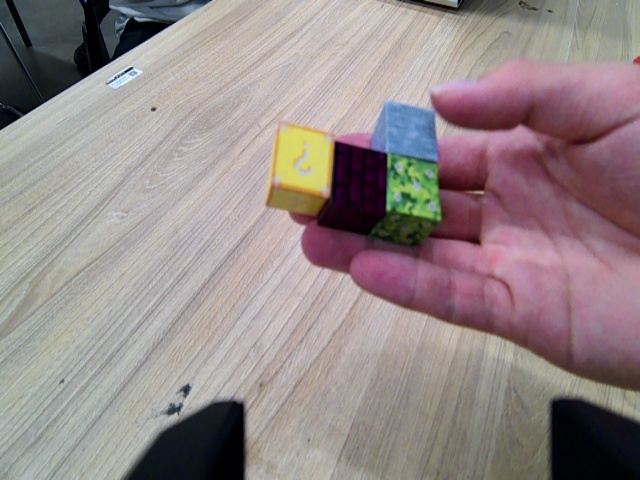brick: (322, 134, 387, 238)
grass: (369, 157, 439, 247)
lucky: (267, 120, 329, 218)
stone: (368, 99, 444, 159)
